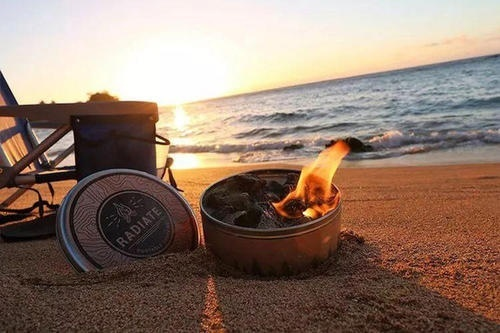fire: (271, 139, 350, 219)
